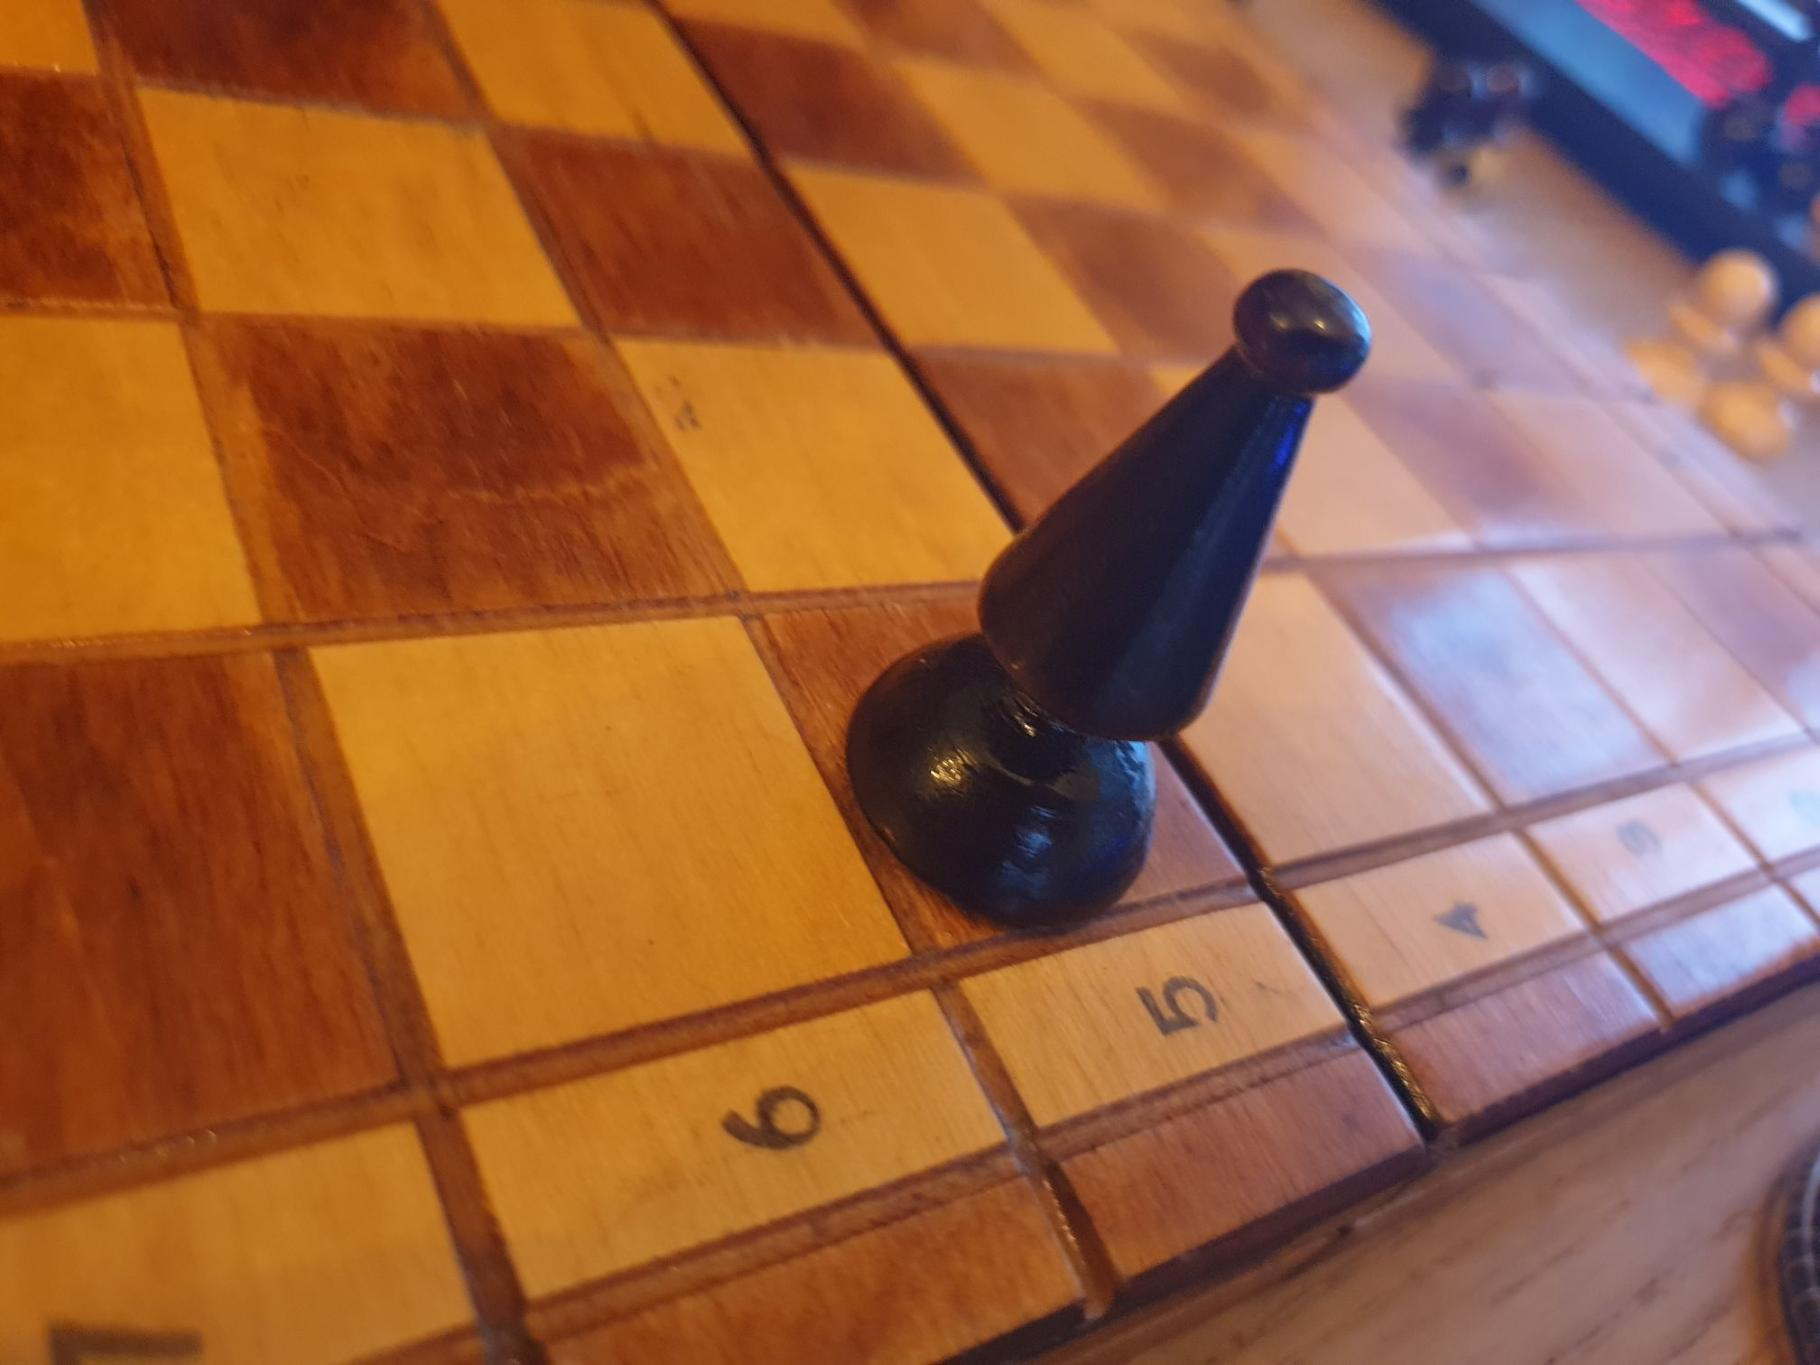bbishop: (846, 267, 1374, 932)
